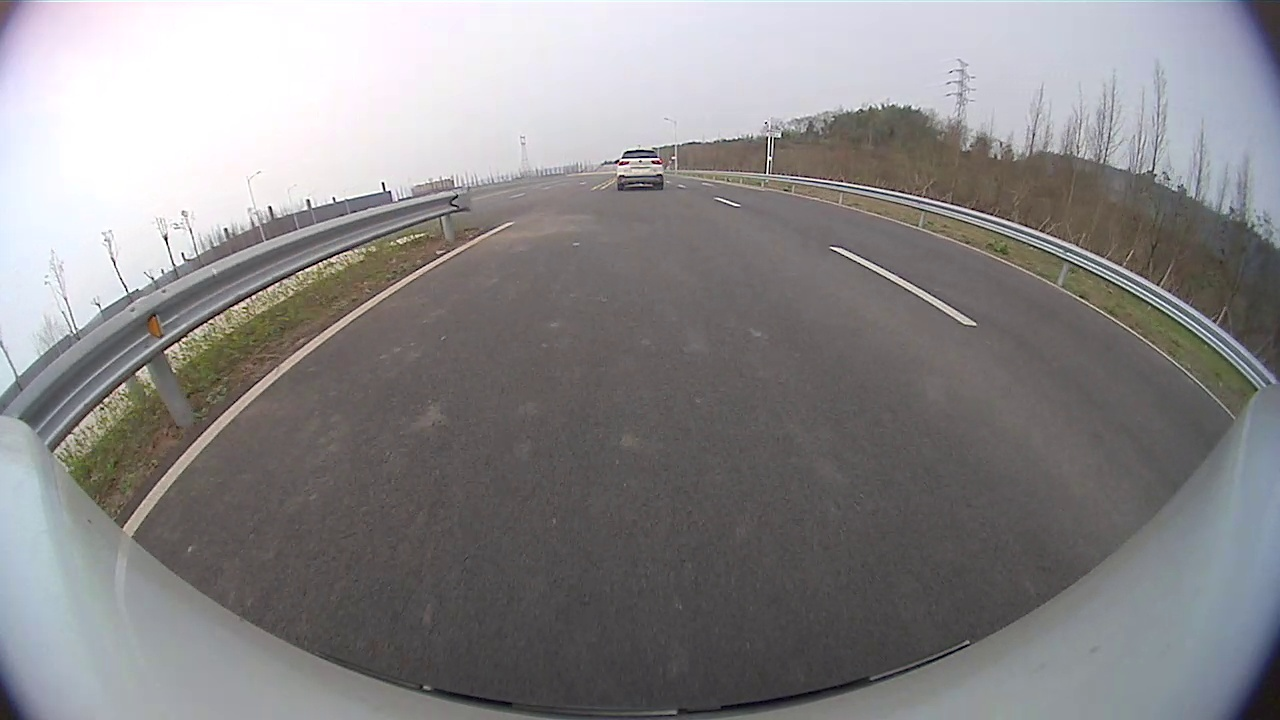car: (616, 149, 664, 191)
